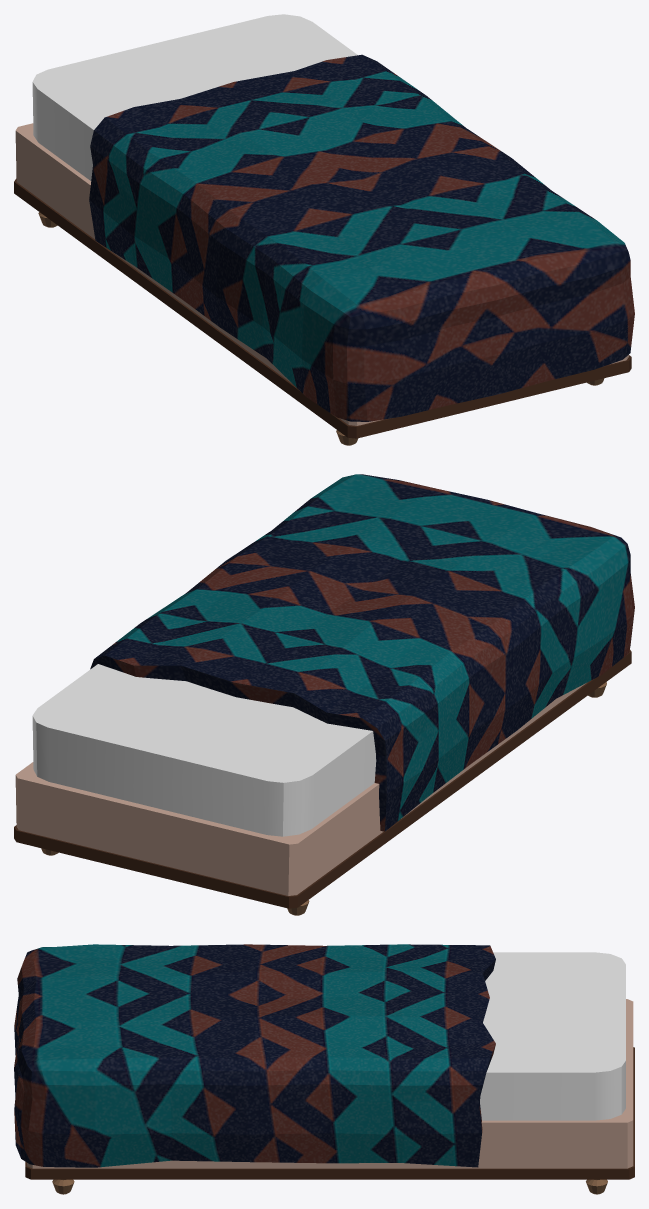
Rendered from bed.glb.
3 renders of one model, top to bottom at view 1: azimuth 30°, elevation 25°; view 2: azimuth 150°, elevation 25°; view 3: azimuth 270°, elevation 25°, orthographic. The views are drawn at different scales.
Visible parts, largest first — view 1: Bed (1) Sheets, Bed (1) Ac, Bed Base 1 (1); view 2: Bed (1) Sheets, Bed (1) Ac, Bed Base 1 (1); view 3: Bed (1) Sheets, Bed (1) Ac, Bed Base 1 (1).
Part boxes in pixels (x1,y1,x2,y2): Bed (1) Sheets: (89,54,634,421); Bed (1) Ac: (32,14,357,180); Bed Base 1 (1): (14,123,631,445); Bed (1) Sheets: (90,474,634,831); Bed (1) Ac: (32,664,376,836); Bed Base 1 (1): (14,649,631,915); Bed (1) Sheets: (14,944,495,1167); Bed (1) Ac: (480,952,625,1120); Bed Base 1 (1): (25,999,634,1194).
Bounding box in the file's own units: 1.3 × 0.6583 × 2.56.
Materials: 3 (3 with a texture image).
